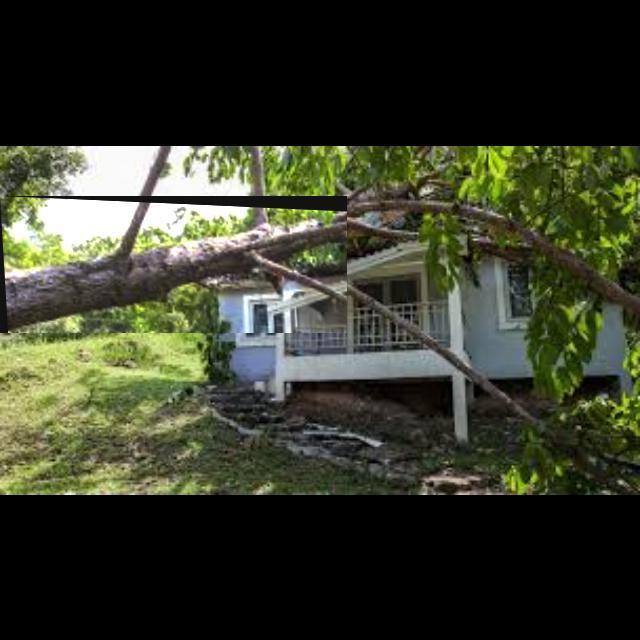fallen_tree: (0, 196, 348, 334)
